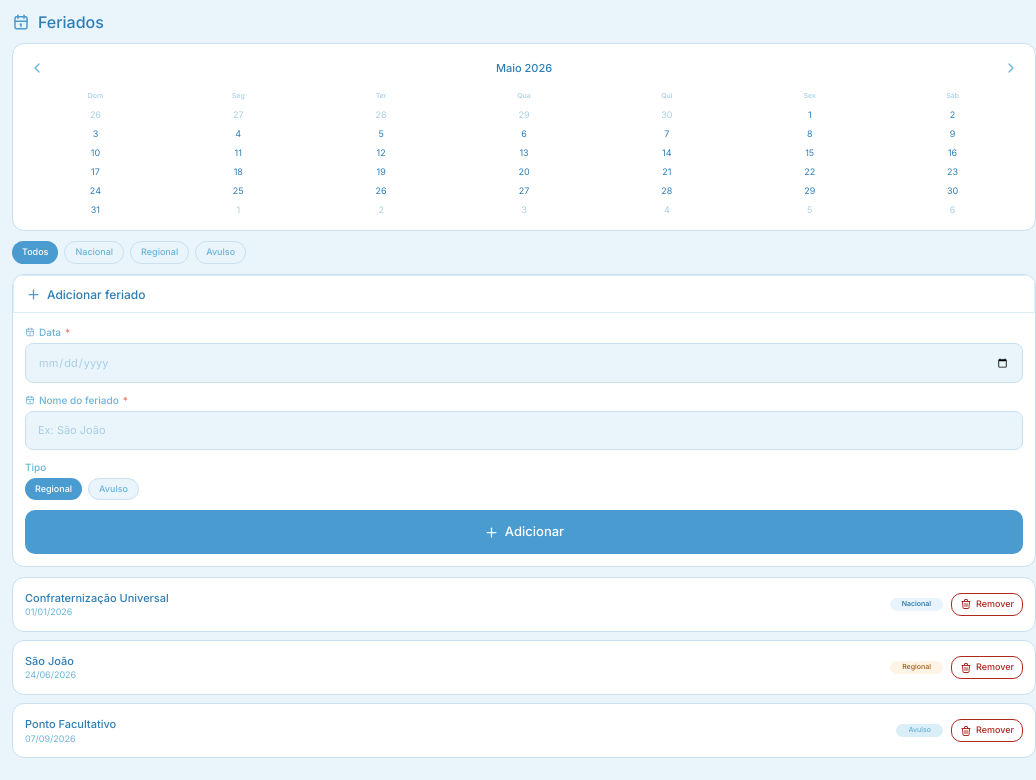
Test case: FeriadosPage — filtros › filtra por Nacional ao clicar no chip
The width and height of the screenshot is (1036, 780).
Click the button "Nacional" at (94, 252), box [64,241,124,264]
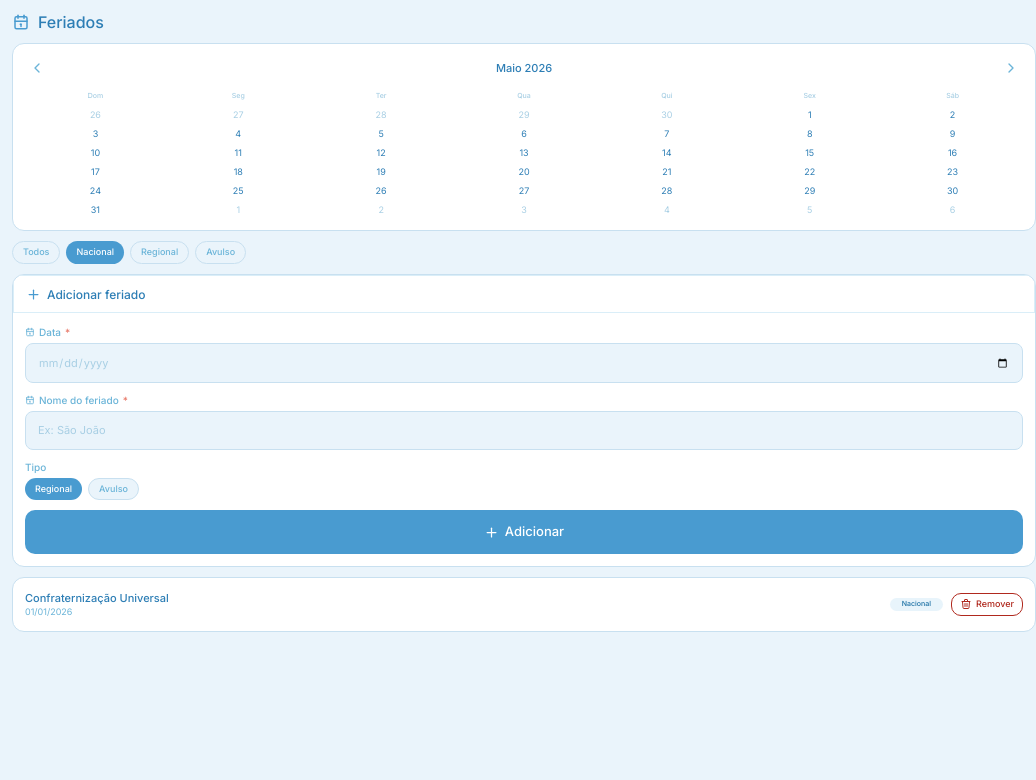
Expected: the text "Confraternização Universal" is shown, [25,591,169,605]
Expected: the text "Ponto Facultativo" is gone
